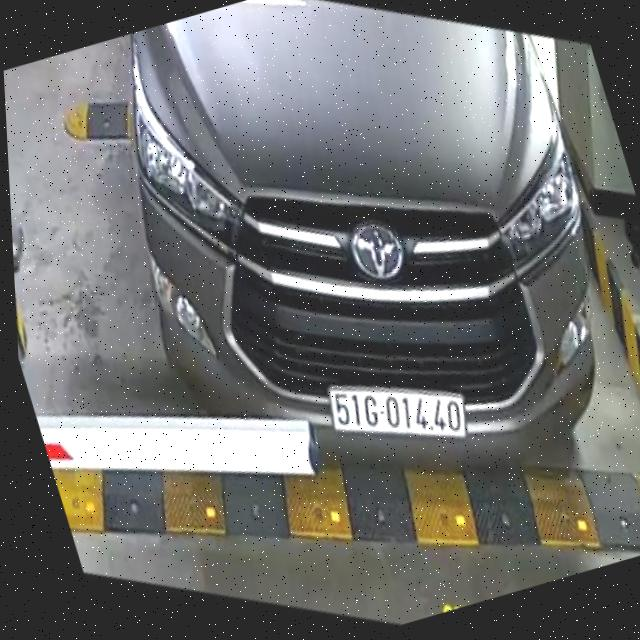car: (62, 0, 640, 554)
plate: (317, 346, 482, 479)
